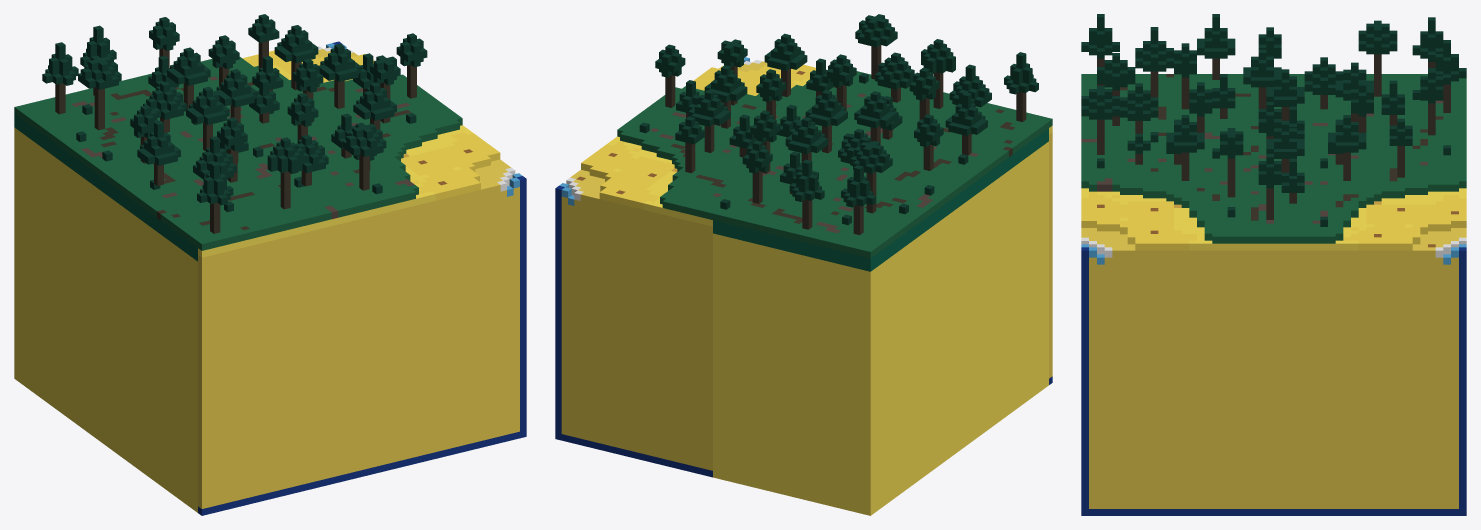
Rendered from wall2corners.obj.
The picture shows the model from 3 angles, left to right: view 1: azimuth 30°, elevation 25°; view 2: azimuth 150°, elevation 25°; view 3: azimuth 270°, elevation 25°; orthographic projection. The views are drawn at different scales.
Bounding box in the file's own units: 5 × 5 × 5.
Materials: 1 (1 with a texture image).
